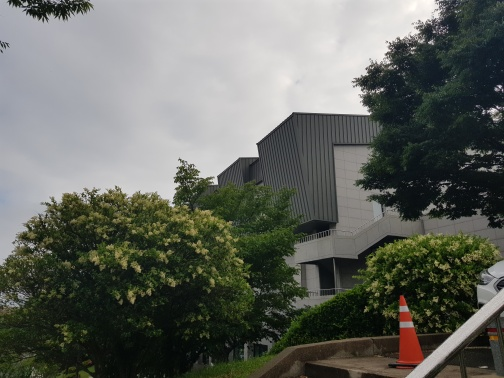Gym: (243, 79, 417, 312)
